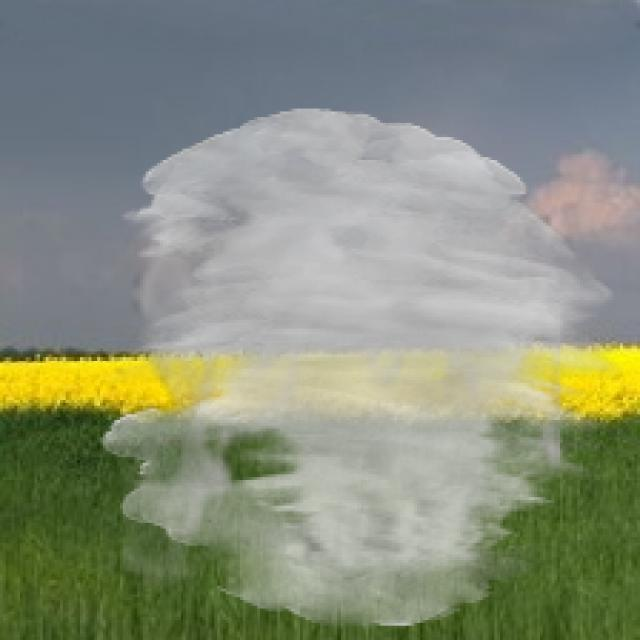smoke: (100, 109, 623, 628)
